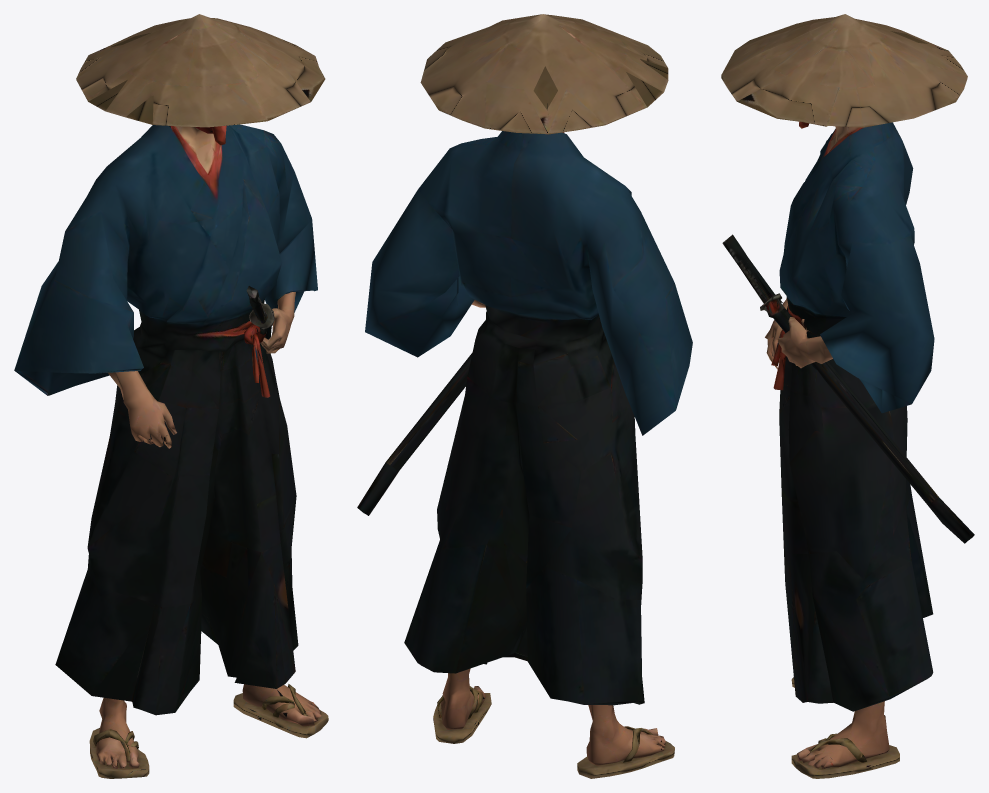
File: p1-mobile.glb
3 views of the same model, side by side, from view 1: azimuth 30°, elevation 25°; view 2: azimuth 150°, elevation 25°; view 3: azimuth 270°, elevation 25° (orthographic). The views are drawn at different scales.
Visible parts, largest first — view 1: geometry_0; view 2: geometry_0; view 3: geometry_0.
Part boxes in pixels (x1,y1,x2,y2): geometry_0: (14, 14, 328, 778); geometry_0: (357, 14, 692, 778); geometry_0: (721, 14, 974, 778).
Bounding box in the file's own units: 0.7869 × 1.8 × 0.5819.
1 material, 1 textured.
